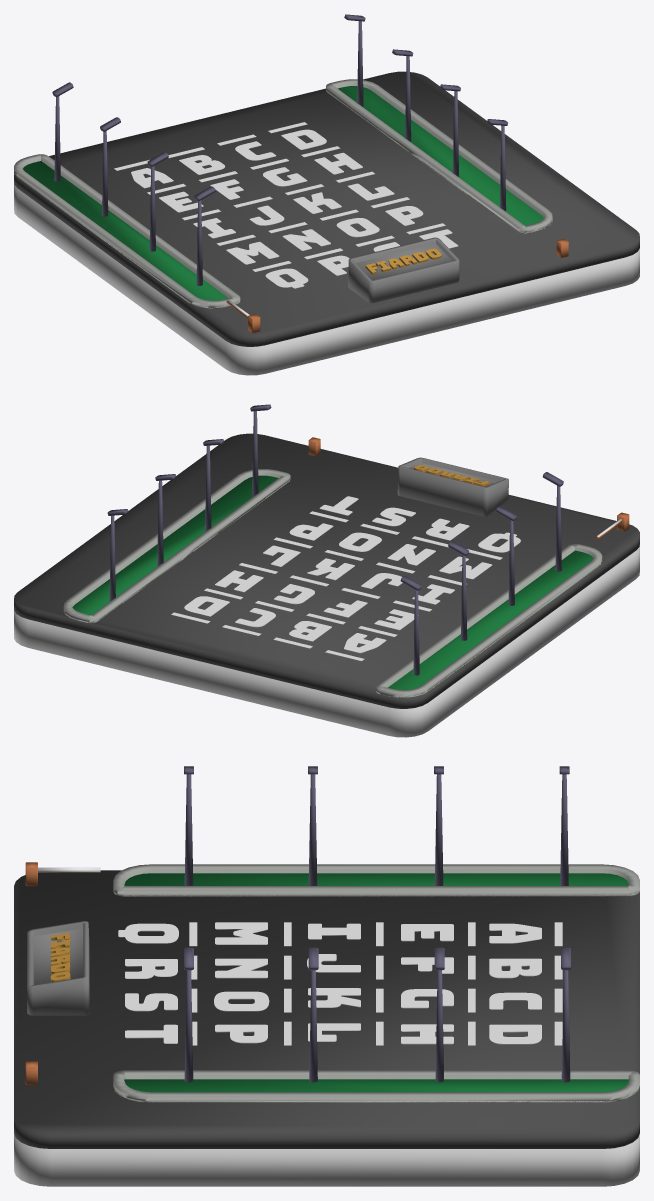
Rendered from home-page_new_try.glb.
3 renders of one model, top to bottom at view 1: azimuth 30°, elevation 25°; view 2: azimuth 150°, elevation 25°; view 3: azimuth 270°, elevation 25°, orthographic. The views are drawn at different scales.
Visible parts, largest first — view 1: asphalt, base, refuge-islands, lamps, buliding, bumps, mnop, abcd, efgh, ijkl, qrst, company-logo (+1 smaller); view 2: asphalt, base, refuge-islands, lamps, buliding, bumps, mnop, abcd, qrst, efgh, ijkl, automatics (+1 smaller); view 3: asphalt, refuge-islands, base, lamps, buliding, bumps, mnop, abcd, qrst, efgh, ijkl, automatics (+1 smaller).
Boxes of the visible parts, x1,y1,x2,y2 form: asphalt: (14, 71, 639, 346); base: (14, 183, 639, 375); refuge-islands: (14, 79, 552, 308); lamps: (52, 14, 507, 285); buliding: (348, 237, 459, 303); bumps: (114, 122, 445, 271); mnop: (226, 206, 423, 264); abcd: (131, 129, 326, 188); efgh: (159, 152, 362, 212); ijkl: (193, 183, 394, 238); qrst: (265, 229, 458, 288); company-logo: (365, 248, 441, 274); asphalt: (14, 433, 639, 708); base: (14, 545, 639, 737); refuge-islands: (63, 469, 602, 697); lamps: (107, 404, 563, 675); buliding: (397, 457, 508, 516); bumps: (171, 511, 502, 661); mnop: (289, 523, 492, 579); abcd: (184, 596, 386, 653); qrst: (319, 496, 520, 552); efgh: (215, 570, 418, 630); ijkl: (263, 545, 454, 604); automatics: (308, 437, 629, 539); asphalt: (14, 870, 639, 1148); refuge-islands: (113, 864, 639, 1102); base: (14, 1134, 639, 1186); lamps: (184, 766, 570, 1082); buliding: (27, 921, 89, 1015); bumps: (189, 922, 562, 1045); mnop: (214, 922, 269, 1043); abcd: (489, 923, 541, 1044); qrst: (118, 923, 178, 1043); efgh: (401, 924, 453, 1044); ijkl: (307, 923, 360, 1041); automatics: (25, 862, 100, 1085).
Bounding box in the file's own units: 10 × 3.13 × 10.
